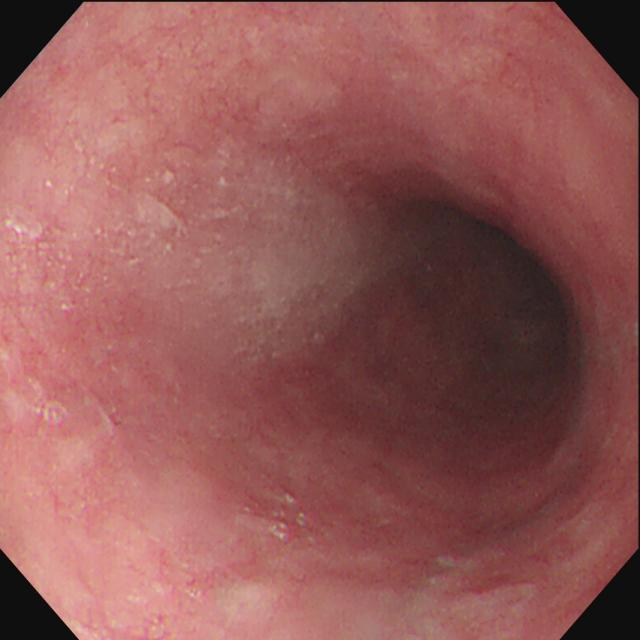E: (420, 186, 580, 374)
J: (136, 151, 363, 363), (271, 491, 306, 543), (5, 219, 48, 241)
